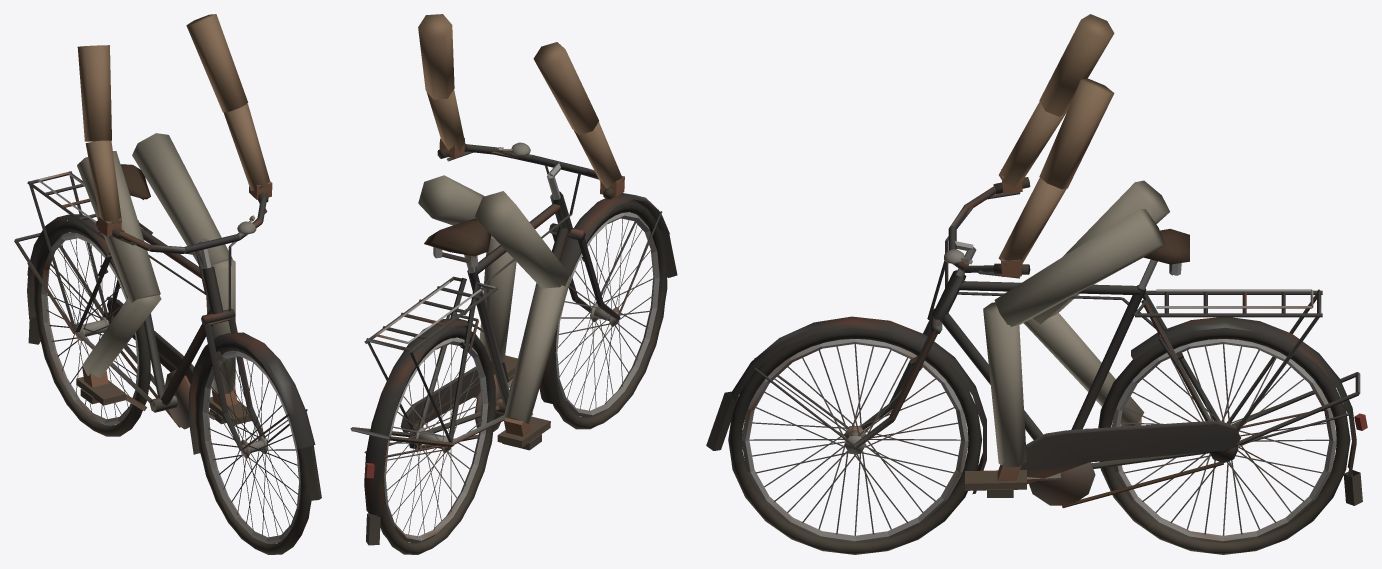
The model's file is player_cycle_v2.glb.
The picture shows the model from 3 angles, left to right: view 1: azimuth 30°, elevation 25°; view 2: azimuth 150°, elevation 25°; view 3: azimuth 270°, elevation 25°; orthographic projection. The views are drawn at different scales.
Visible parts, largest first — view 1: hb_main, hb_metal; view 2: hb_main, hb_metal; view 3: hb_metal, hb_main.
Part boxes in pixels (x1,y1,x2,y2): hb_main: (27,14,321,554); hb_metal: (14,171,315,543); hb_main: (364,14,677,554); hb_metal: (350,142,669,545); hb_metal: (731,186,1362,542); hb_main: (706,14,1367,554).
Bounding box in the file's own units: 0.6192 × 1.58 × 1.87.
